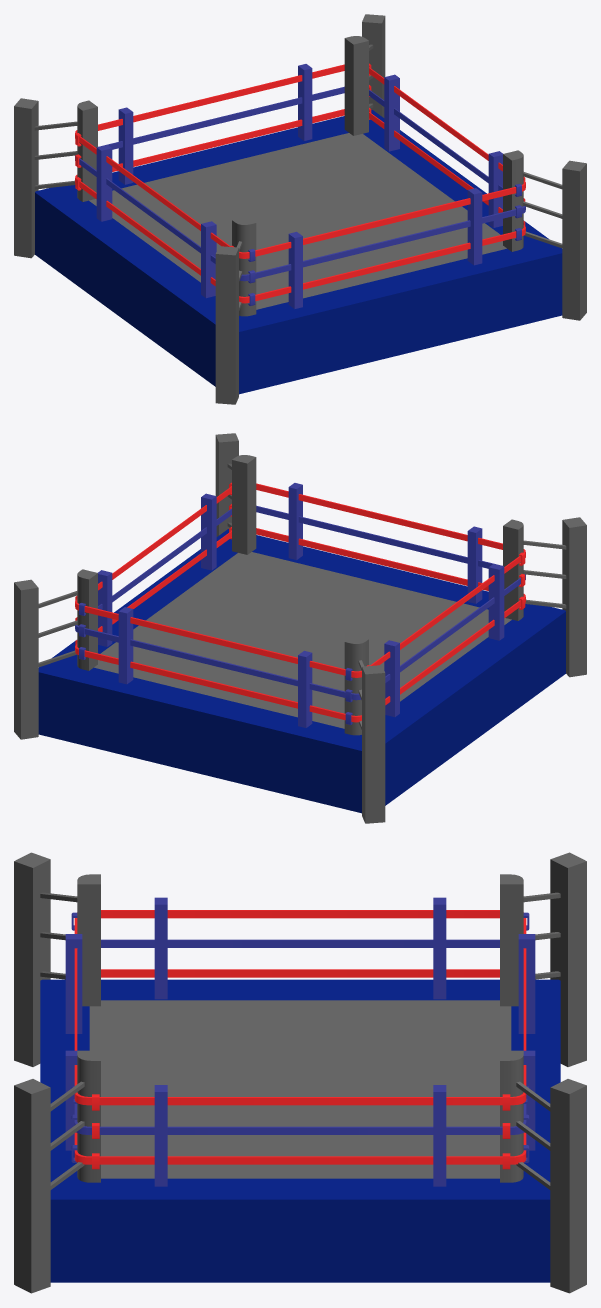
The model's file is Boxing_ring_l.fbx.
3 views of the same model, one above another, from view 1: azimuth 30°, elevation 25°; view 2: azimuth 150°, elevation 25°; view 3: azimuth 270°, elevation 25° (orthographic). The views are drawn at different scales.
Parts seen in each view (by area): view 1: Cube.349; view 2: Cube.349; view 3: Cube.349.
Part boxes in pixels (x1,y1,x2,y2): Cube.349: (14,14,586,404); Cube.349: (14,433,586,823); Cube.349: (14,852,586,1293).
Size of the model in its own units: 512 by 513 by 203.
